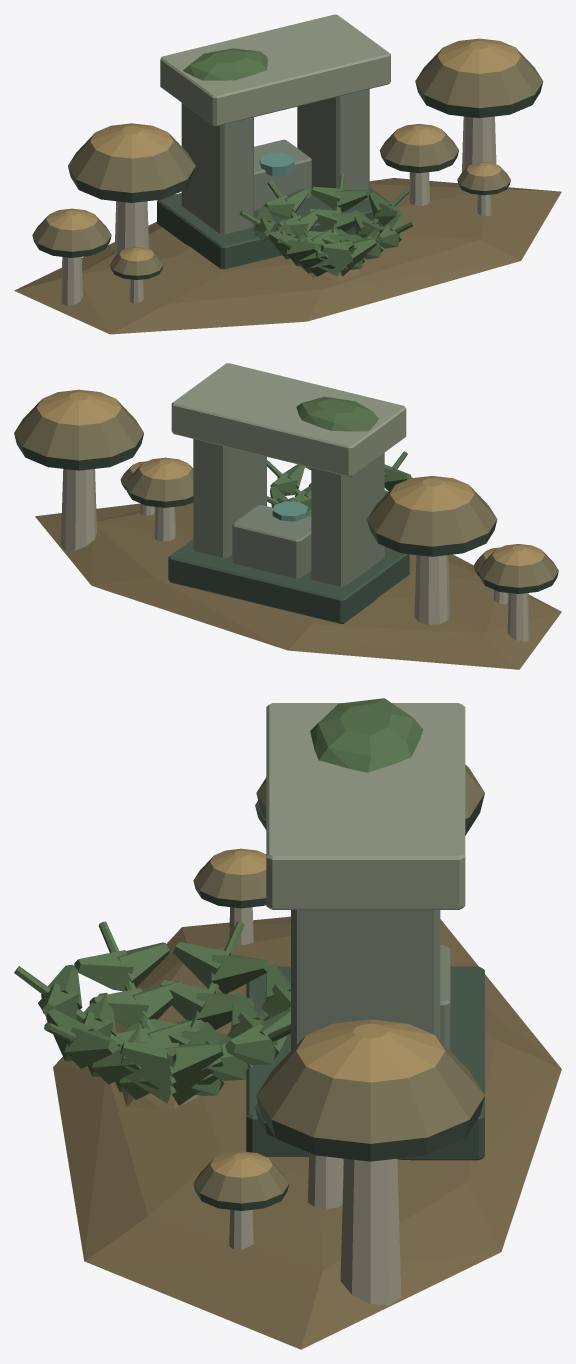
File: shrine-grove.glb
3 renders of one model, top to bottom at view 1: azimuth 30°, elevation 25°; view 2: azimuth 150°, elevation 25°; view 3: azimuth 270°, elevation 25°, orthographic. The views are drawn at different scales.
Visible parts, largest first — view 1: shrine-grove__body; view 2: shrine-grove__body; view 3: shrine-grove__body.
Boxes of the visible parts, x1,y1,x2,y2 form: shrine-grove__body: (14, 14, 561, 334); shrine-grove__body: (14, 363, 561, 669); shrine-grove__body: (14, 698, 561, 1349).
Size of the model in its own units: 2.14 by 0.82 by 1.1.
